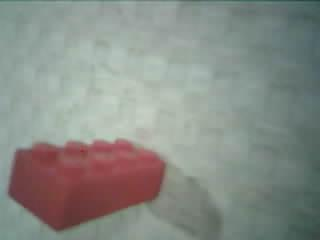lego: (6, 137, 165, 231)
